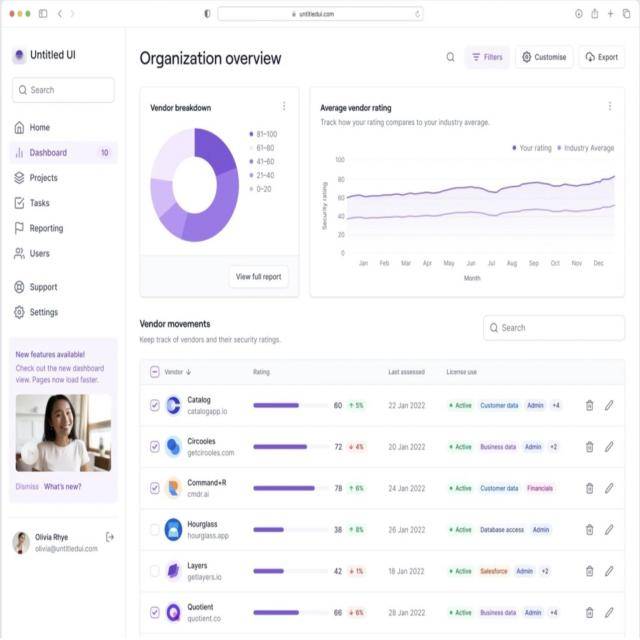button: (515, 45, 573, 68), (228, 266, 288, 286), (578, 45, 625, 69), (464, 45, 510, 68)
input: (483, 314, 627, 342), (11, 76, 114, 104)
